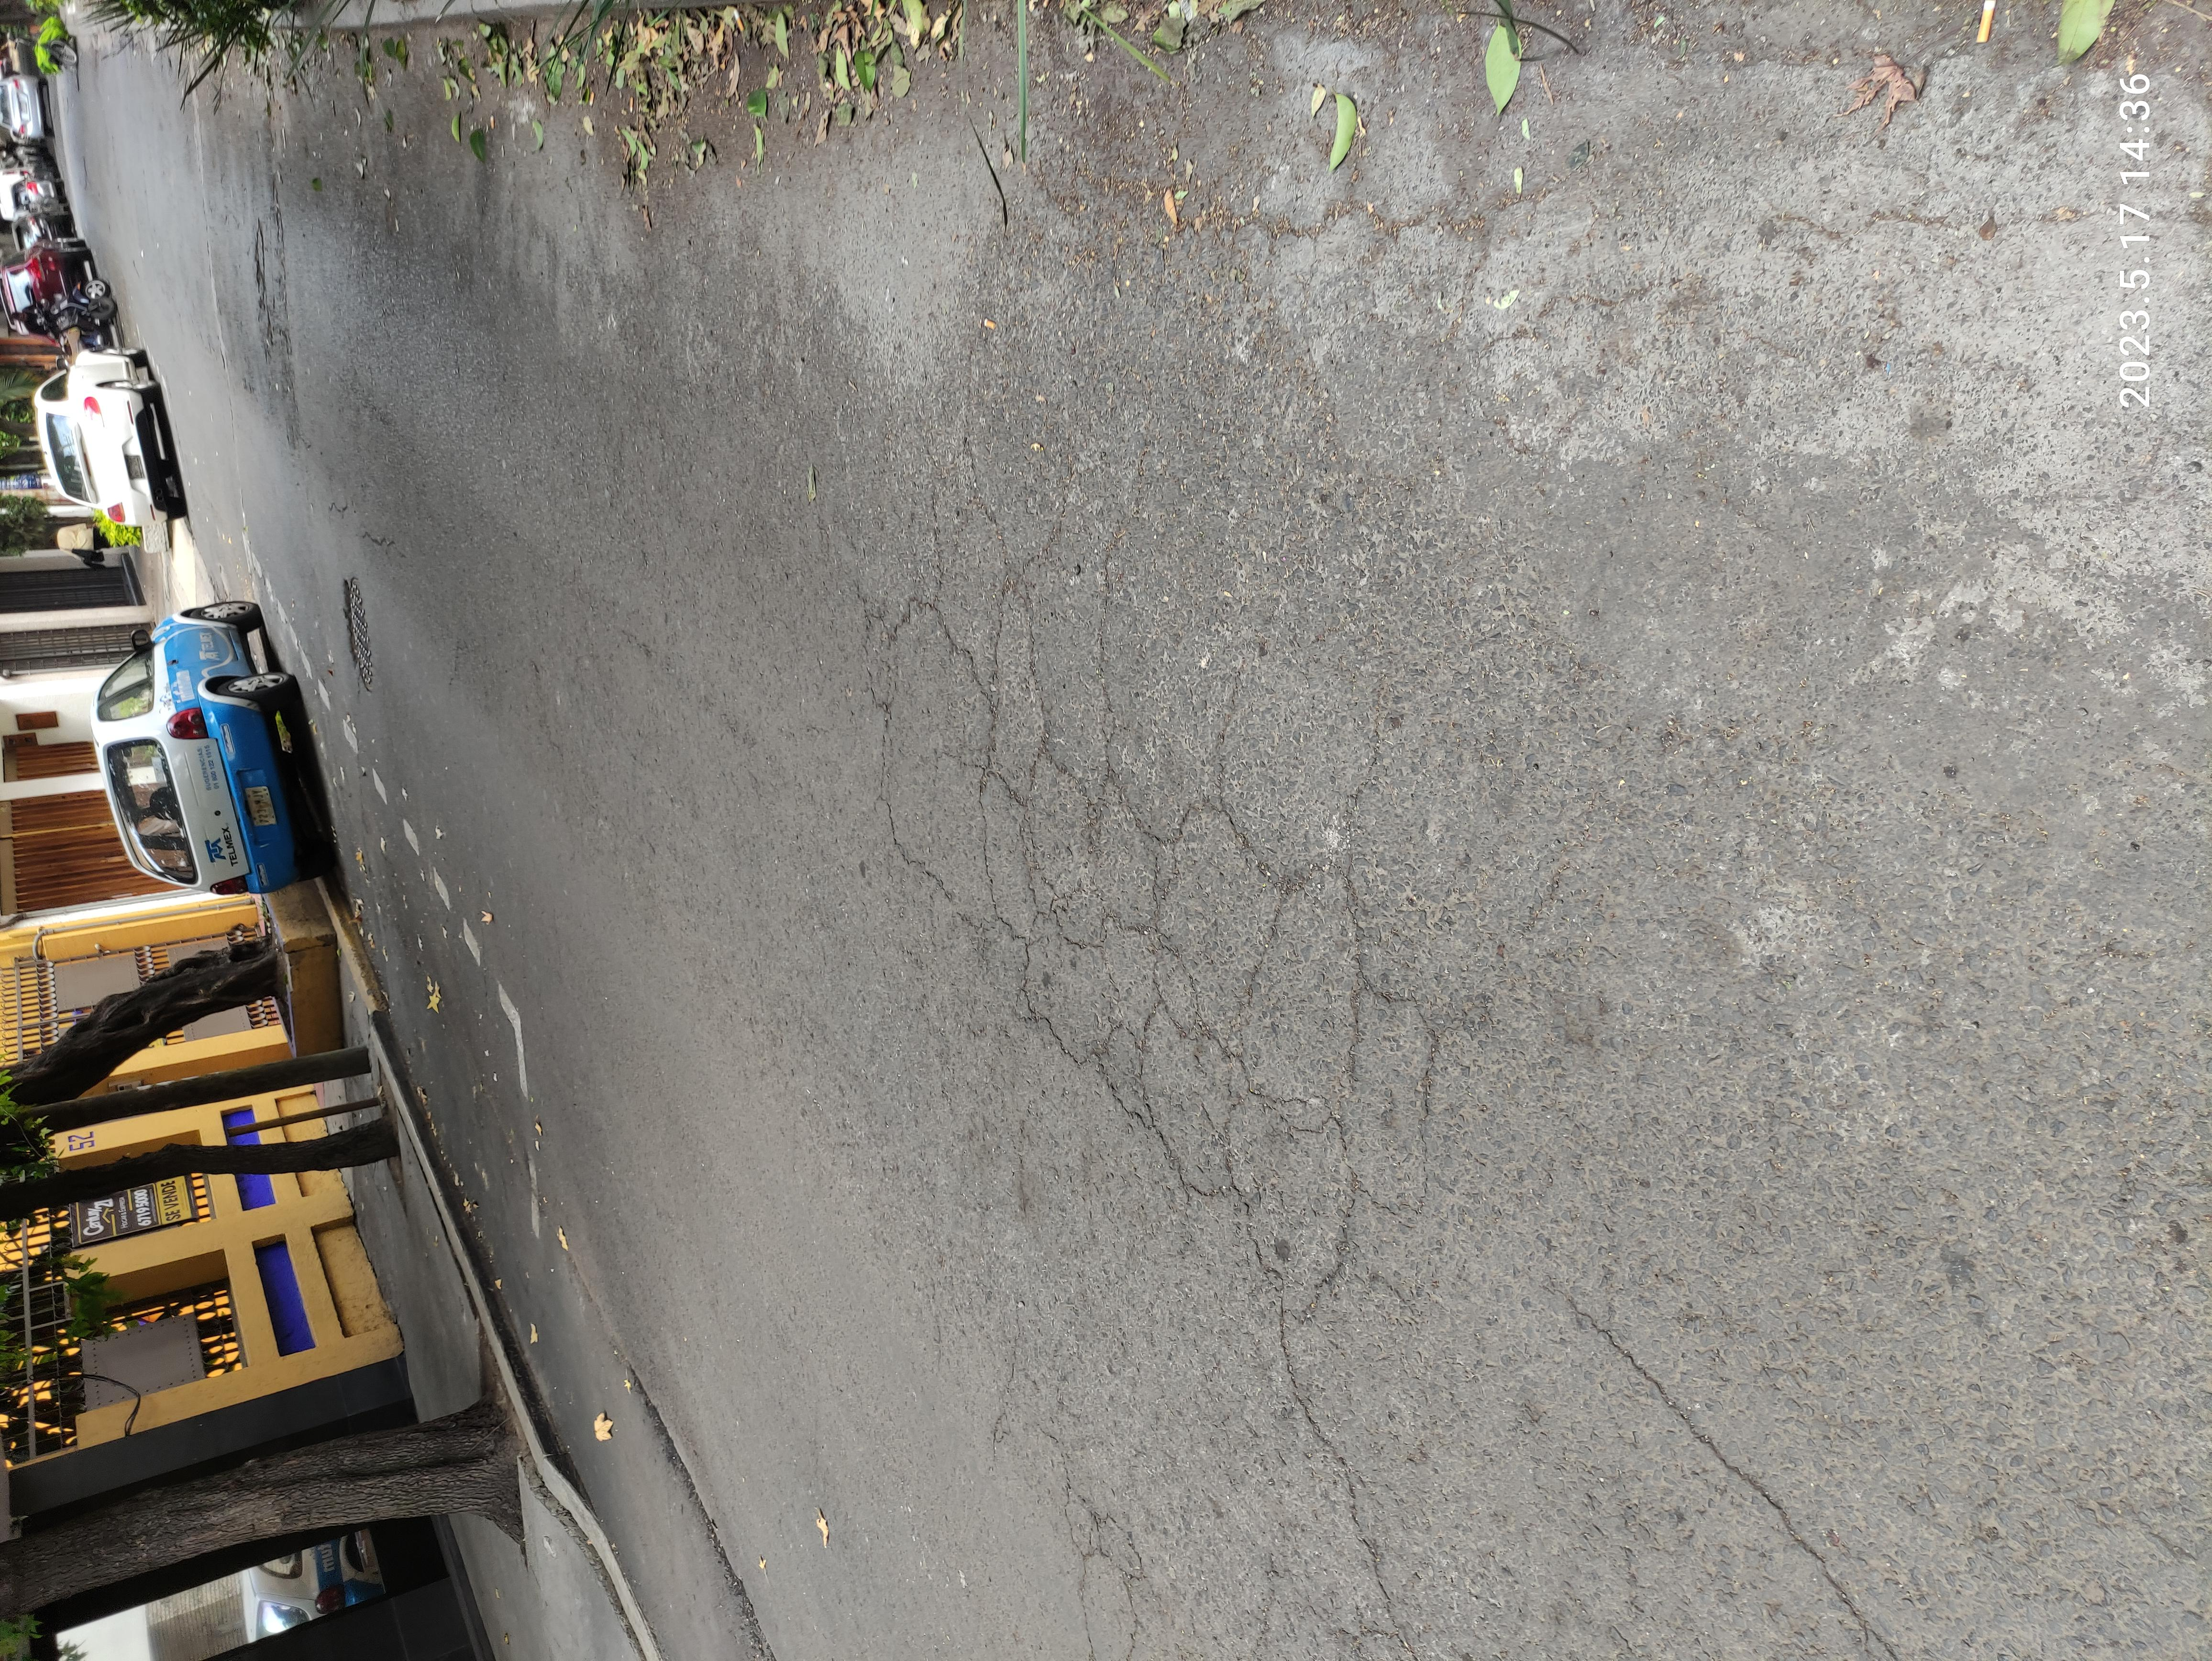alligator-crack: (455, 668, 1547, 1078), (7, 792, 211, 876)
crack: (0, 1159, 546, 1455), (3, 954, 461, 1078), (1846, 865, 1985, 1186), (1479, 267, 1504, 304), (1525, 244, 1546, 263)
